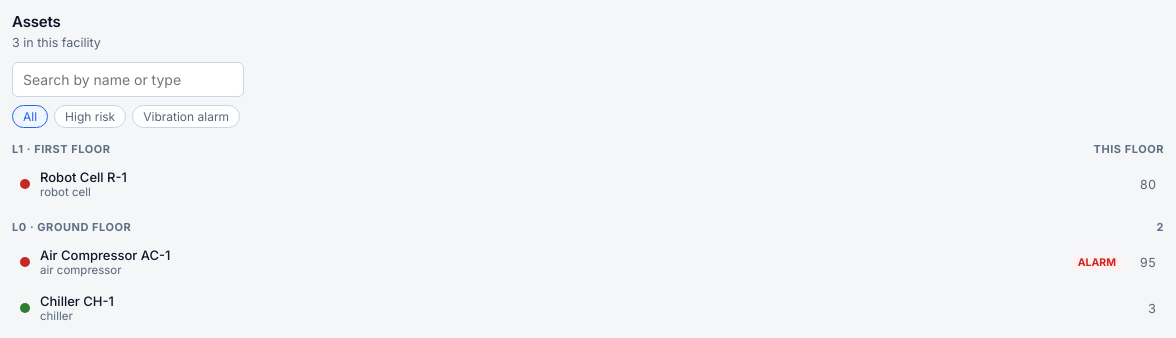
Test case: AssetBrowser › searches by name and says how many match
In the search field named "Search assets": (128, 80) [12, 62, 244, 97], type "robot"
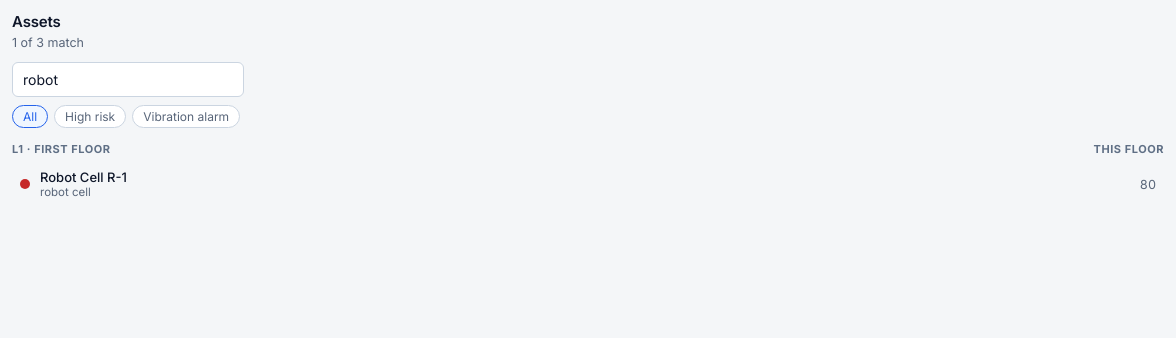
Expected: the text "Robot Cell R-1" is shown, [40, 169, 127, 185]
Expected: the button "Chiller CH-1" is gone
Expected: the text "1 of 3 match" is shown, [12, 35, 84, 50]
